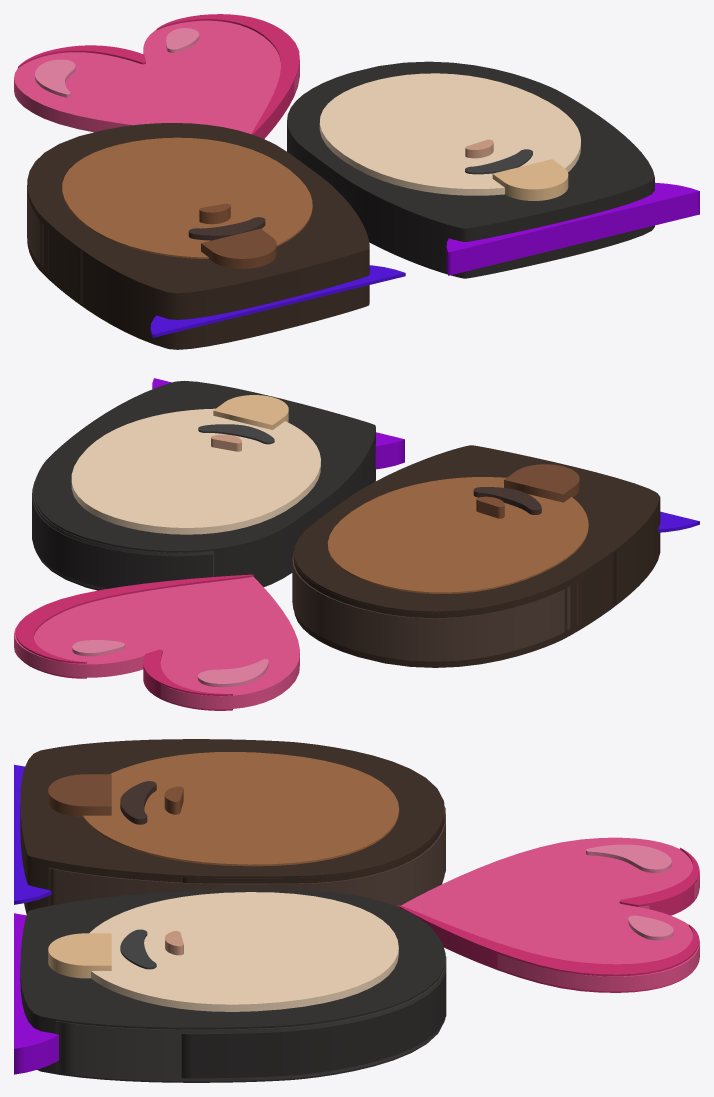
The model's file is emoji_u1f469_1f3fe_200d_2764_200d_1f469_1f3fb.glb.
3 renders of one model, top to bottom at view 1: azimuth 30°, elevation 25°; view 2: azimuth 150°, elevation 25°; view 3: azimuth 270°, elevation 25°, orthographic. The views are drawn at different scales.
Visible parts, largest first — view 1: emoji_u1f469_1f3fe_200d_2764_200d_1f469_1f3fb; view 2: emoji_u1f469_1f3fe_200d_2764_200d_1f469_1f3fb; view 3: emoji_u1f469_1f3fe_200d_2764_200d_1f469_1f3fb.
Part boxes in pixels (x1,y1,x2,y2): emoji_u1f469_1f3fe_200d_2764_200d_1f469_1f3fb: (14,14,699,349); emoji_u1f469_1f3fe_200d_2764_200d_1f469_1f3fb: (14,378,699,710); emoji_u1f469_1f3fe_200d_2764_200d_1f469_1f3fb: (14,739,699,1082).
Bounding box in the file's own units: 0.0345 × 0.005 × 0.0338.
